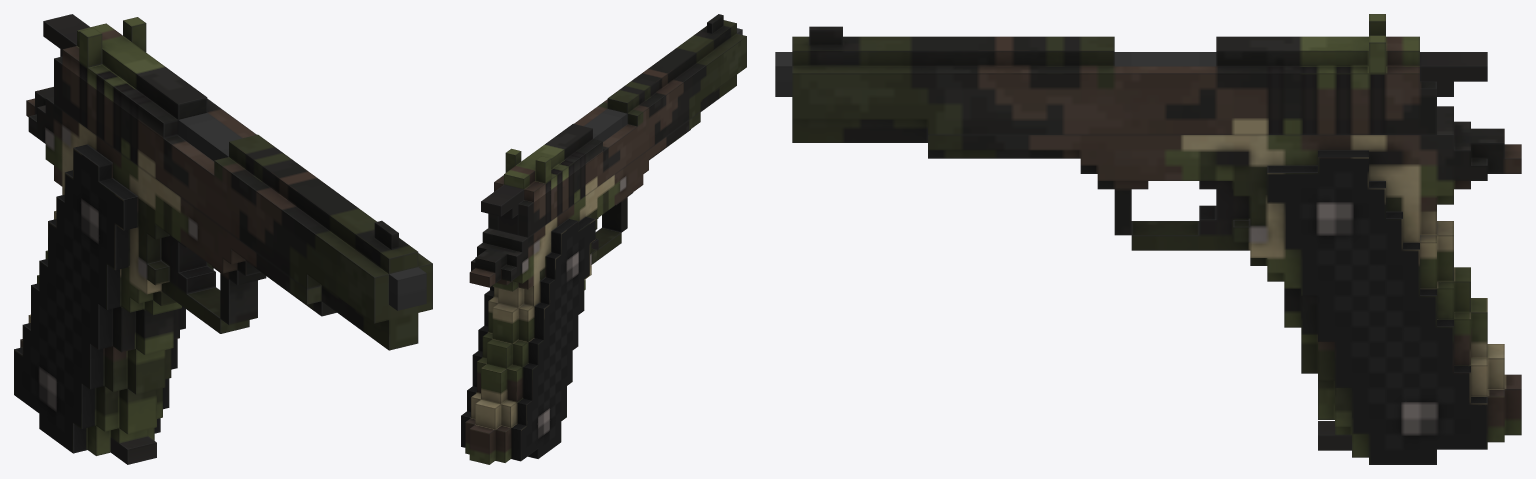
Rendered from RD_M1911_MILITARY1945.glb.
The picture shows the model from 3 angles, left to right: view 1: azimuth 30°, elevation 25°; view 2: azimuth 150°, elevation 25°; view 3: azimuth 270°, elevation 25°; orthographic projection. The views are drawn at different scales.
Parts seen in each view (by area): view 1: COLT_M1911, COLT_M1911_FRAME, COLT_M1911_TRIGGER, COLT_M1911_CLIP; view 2: COLT_M1911, COLT_M1911_FRAME, COLT_M1911_TRIGGER; view 3: COLT_M1911, COLT_M1911_FRAME, COLT_M1911_TRIGGER, COLT_M1911_CLIP.
Part boxes in pixels (left/top/right/bottom): COLT_M1911: left=14, top=87, right=426, bottom=455; COLT_M1911_FRAME: left=54, top=17, right=432, bottom=350; COLT_M1911_TRIGGER: left=43, top=14, right=90, bottom=56; COLT_M1911_CLIP: left=110, top=436, right=156, bottom=464; COLT_M1911: left=461, top=28, right=742, bottom=464; COLT_M1911_FRAME: left=488, top=14, right=746, bottom=237; COLT_M1911_TRIGGER: left=481, top=184, right=523, bottom=235; COLT_M1911: left=775, top=52, right=1521, bottom=464; COLT_M1911_FRAME: left=792, top=14, right=1436, bottom=142; COLT_M1911_TRIGGER: left=1420, top=52, right=1487, bottom=96; COLT_M1911_CLIP: left=1318, top=421, right=1351, bottom=450.
Size of the model in its own units: 0.0591 by 0.2657 by 0.4331.
1 material, 1 textured.
